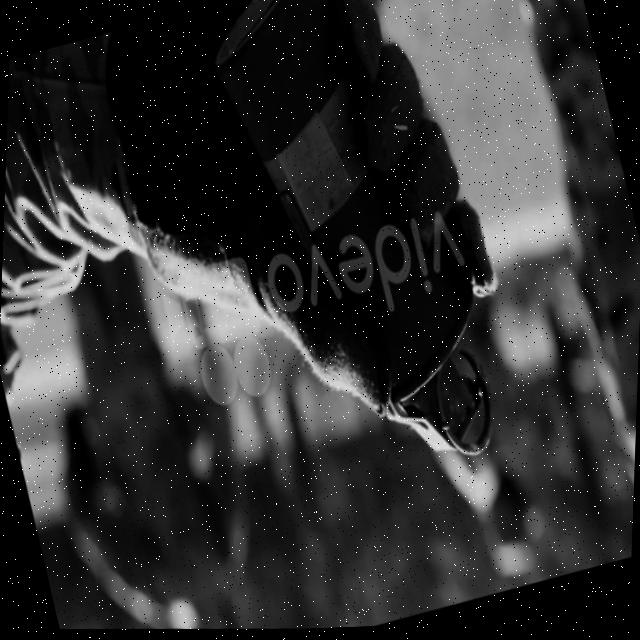grenade: (178, 0, 537, 508)
